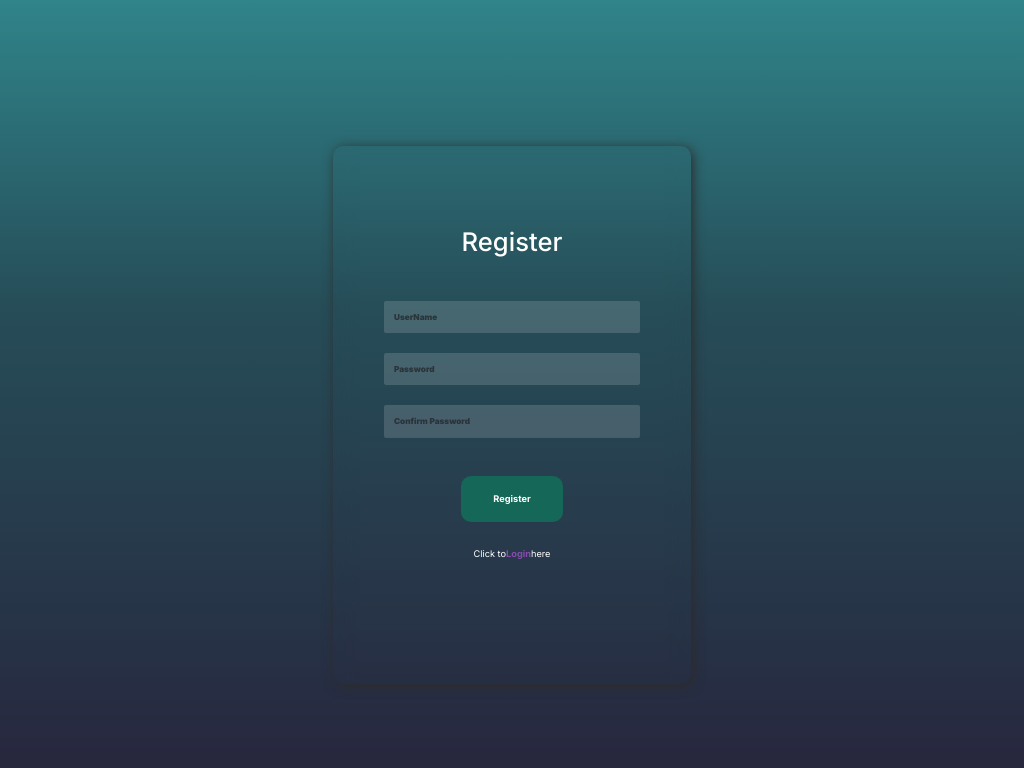
it: Form Component - Register and Login tests › Confirm Password Test
Type "testingtheusername" into the field with placeholder "UserName" at (512, 317), box x1=384 y1=301 x2=640 y2=333
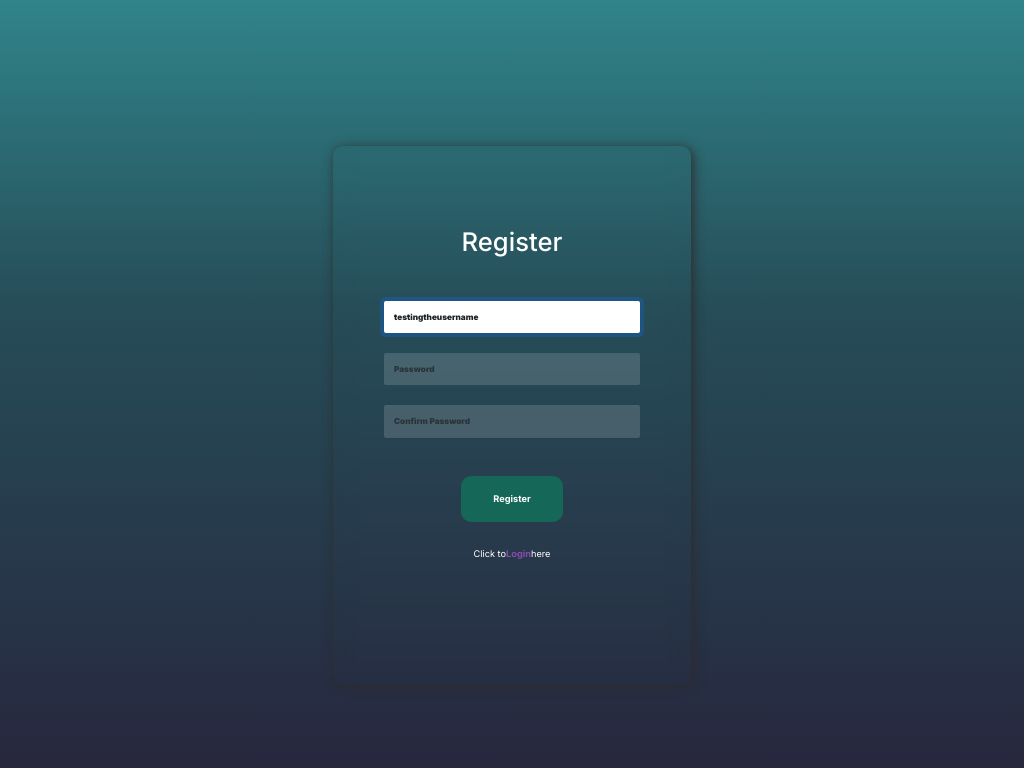
Type "testingthepassword" into the password field with placeholder "Password" at (512, 369), box x1=384 y1=353 x2=640 y2=385
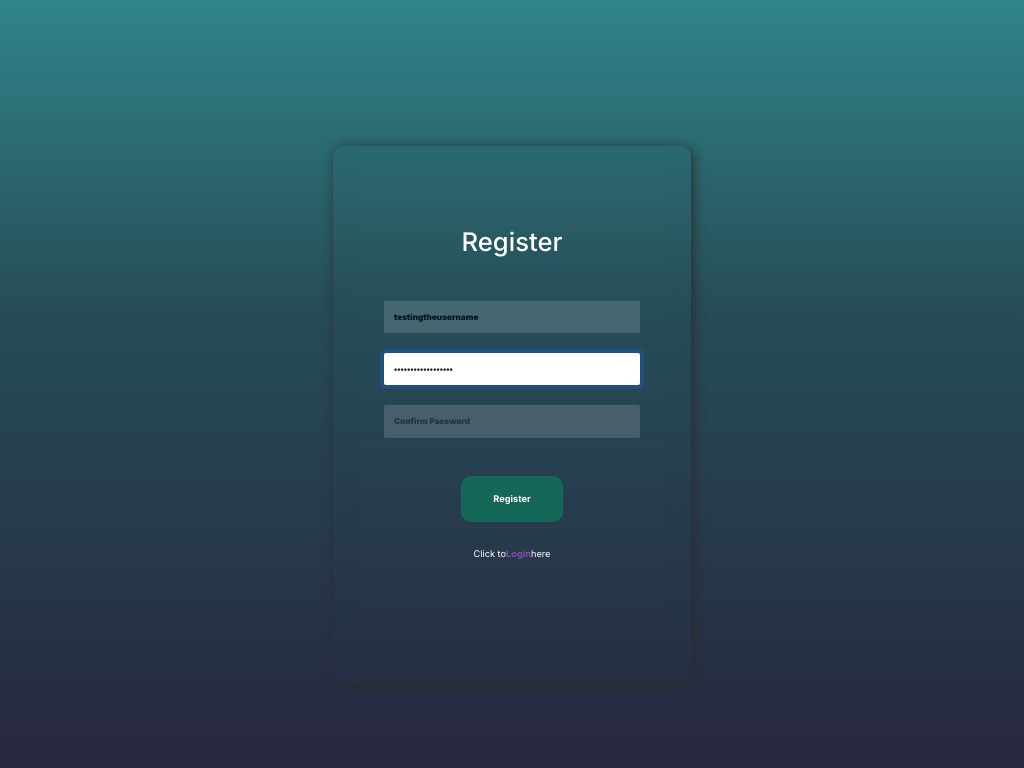
Type "nonmatchingpassword" into the password field with placeholder "Confirm Password" at (512, 421), box x1=384 y1=405 x2=640 y2=438
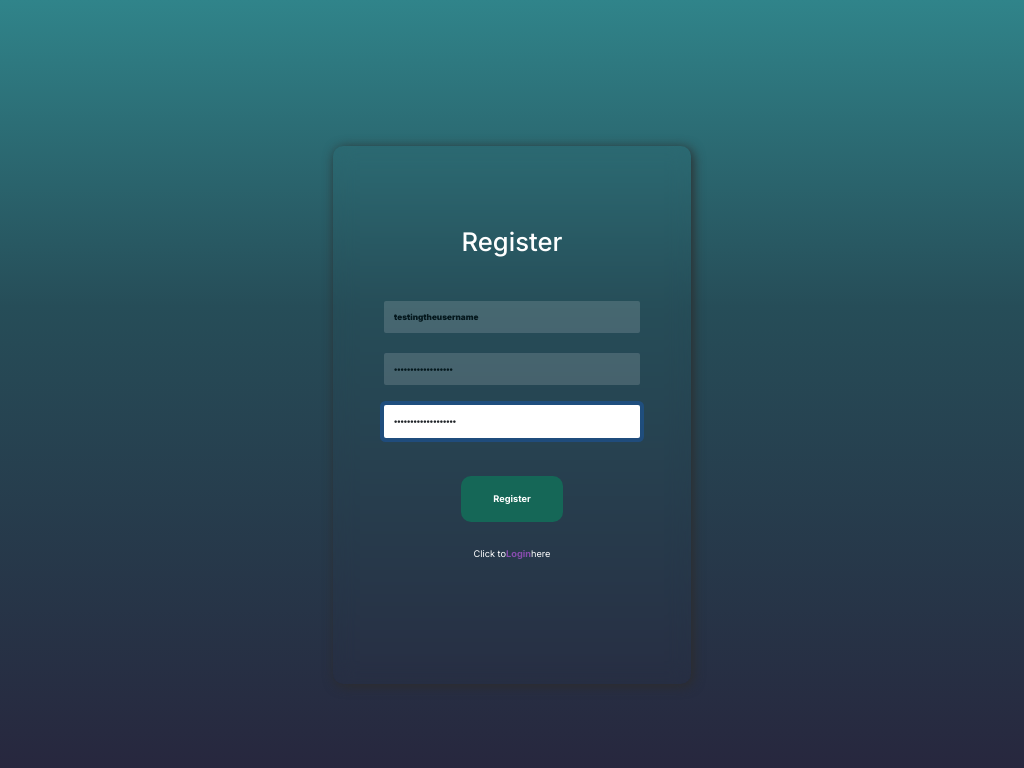
Click the button "Register" at (512, 499), box x1=461 y1=476 x2=563 y2=522
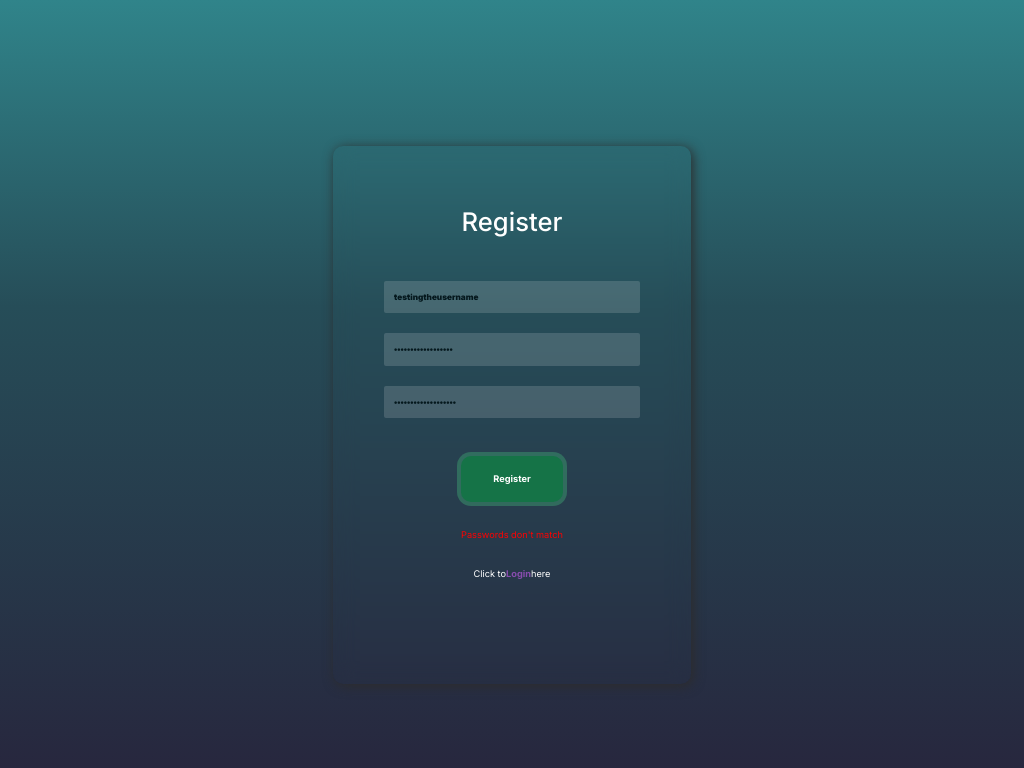
Now the text "Passwords don't match" is shown, box x1=461 y1=529 x2=563 y2=540
